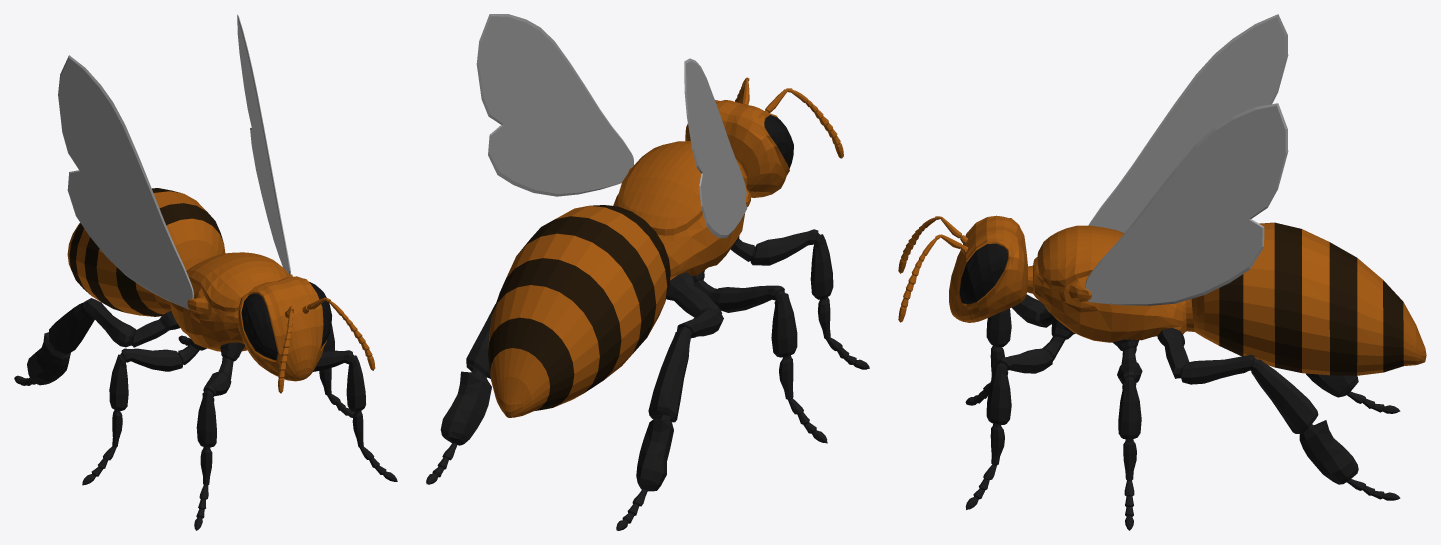
Rendered from bee_bee.obj.
3 renders of one model, left to right at view 1: azimuth 30°, elevation 25°; view 2: azimuth 150°, elevation 25°; view 3: azimuth 270°, elevation 25°, orthographic. The views are drawn at different scales.
Bounding box in the file's own units: 0.0121 × 0.0152 × 0.0182.
